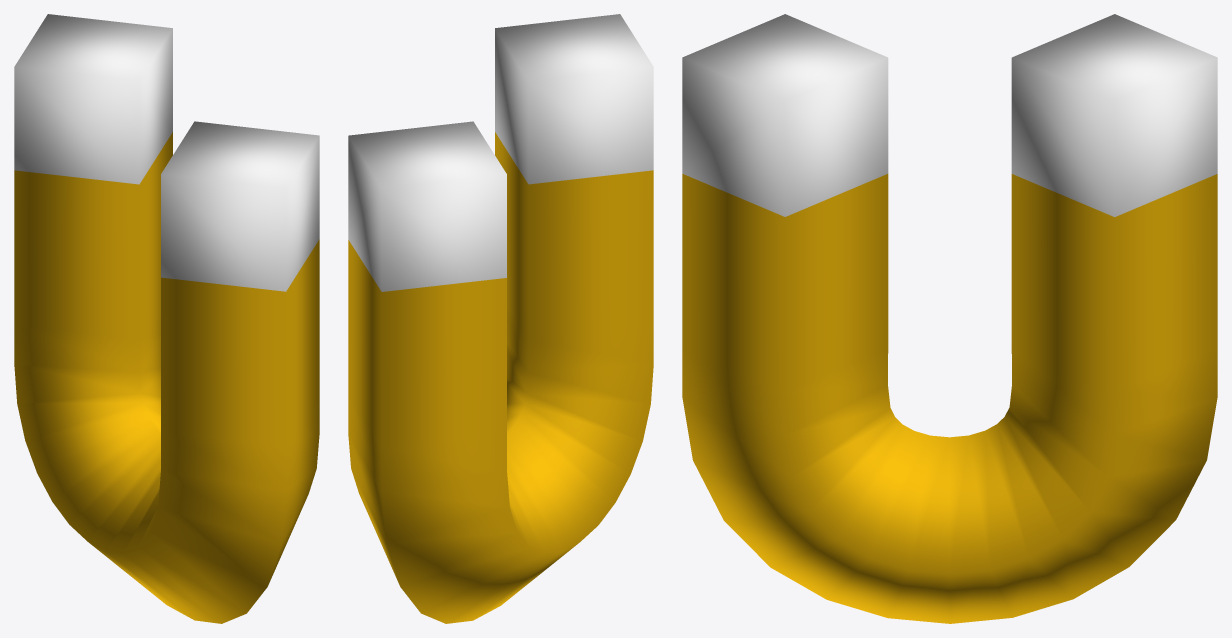
The model's file is Magnet.fbx.
The picture shows the model from 3 angles, left to right: view 1: azimuth 30°, elevation 25°; view 2: azimuth 150°, elevation 25°; view 3: azimuth 270°, elevation 25°; orthographic projection. The views are drawn at different scales.
Parts seen in each view (by area): view 1: BézierCurve; view 2: BézierCurve; view 3: BézierCurve.
Boxes of the visible parts, bbox=[...] form: BézierCurve: bbox=[14, 14, 319, 623]; BézierCurve: bbox=[348, 14, 653, 623]; BézierCurve: bbox=[682, 14, 1217, 623].
Size of the model in its own units: 0.22 by 0.6676 by 0.572.
